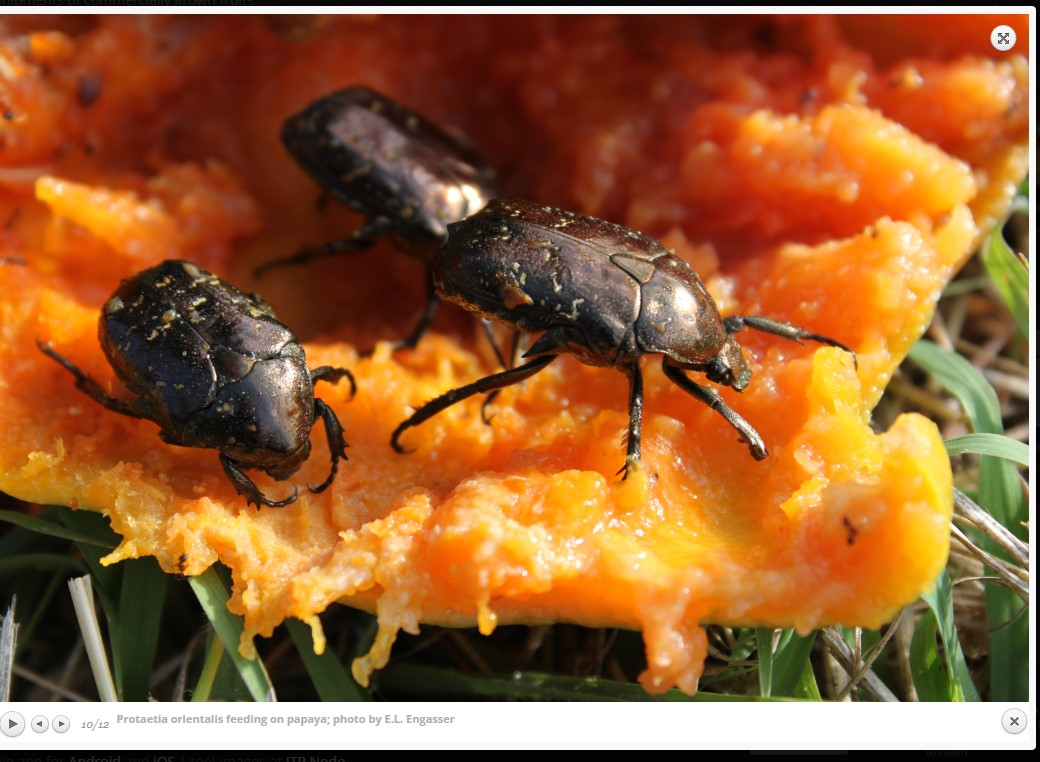Protaetia _orientalis: (385, 221, 876, 480), (28, 252, 355, 514), (275, 75, 503, 254)
